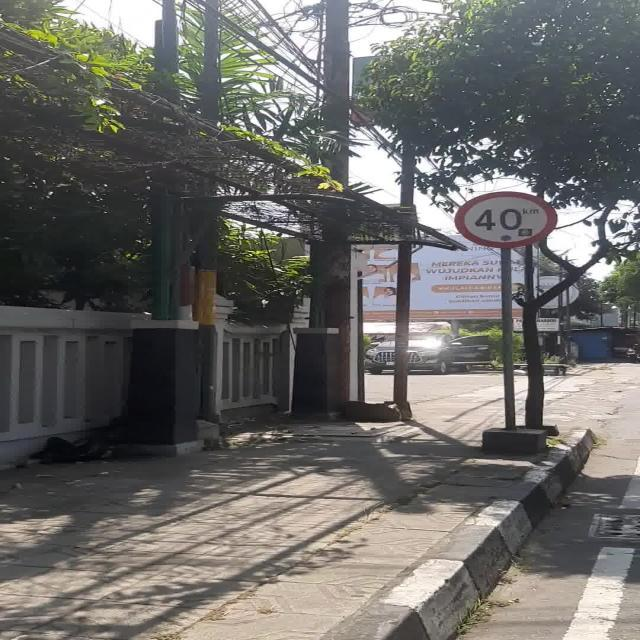Kecepatan Maks. 40 km: (454, 190, 558, 248)
